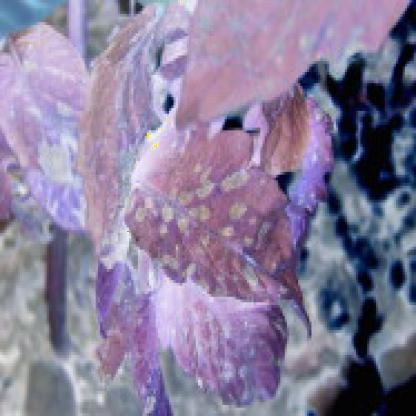tomato leaf bacterial spot: (91, 139, 314, 336), (73, 6, 189, 266), (4, 22, 107, 227)
